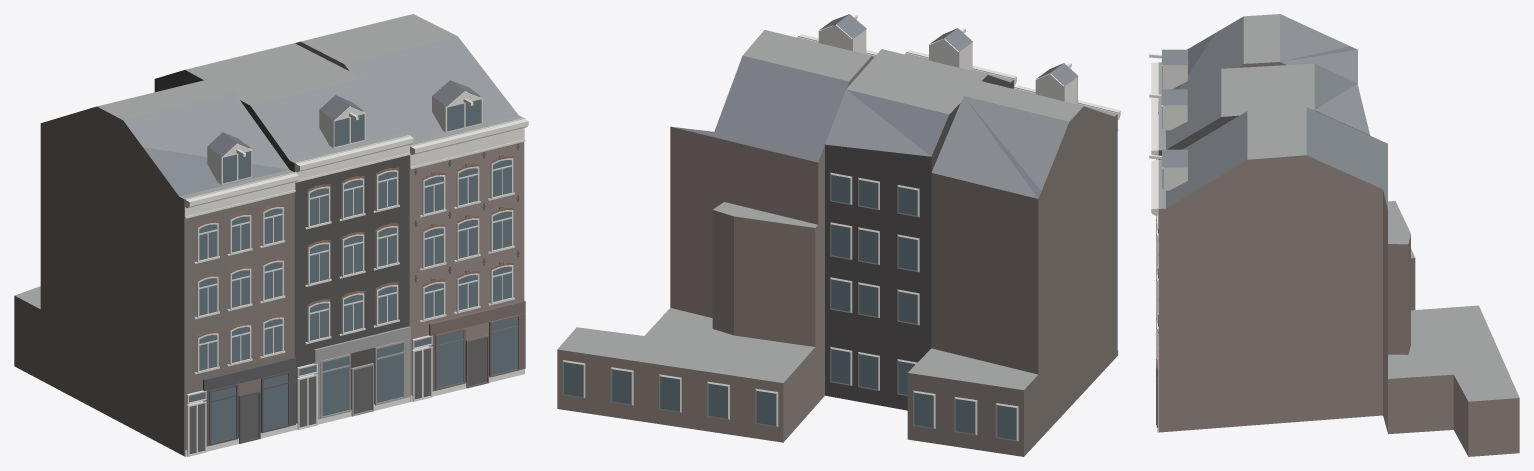
File: chunk-face-wou-12-22-r1.glb
The picture shows the model from 3 angles, left to right: view 1: azimuth 30°, elevation 25°; view 2: azimuth 150°, elevation 25°; view 3: azimuth 270°, elevation 25°; orthographic projection. The views are drawn at different scales.
Parts seen in each view (by area): view 1: face-wou-12-22-r1; view 2: face-wou-12-22-r1; view 3: face-wou-12-22-r1.
Boxes of the visible parts, left/top/right/bottom form: face-wou-12-22-r1: left=14, top=14, right=528, bottom=456; face-wou-12-22-r1: left=557, top=14, right=1120, bottom=456; face-wou-12-22-r1: left=1149, top=14, right=1519, bottom=456.
Size of the model in its own units: 23.87 by 16.27 by 20.25.
